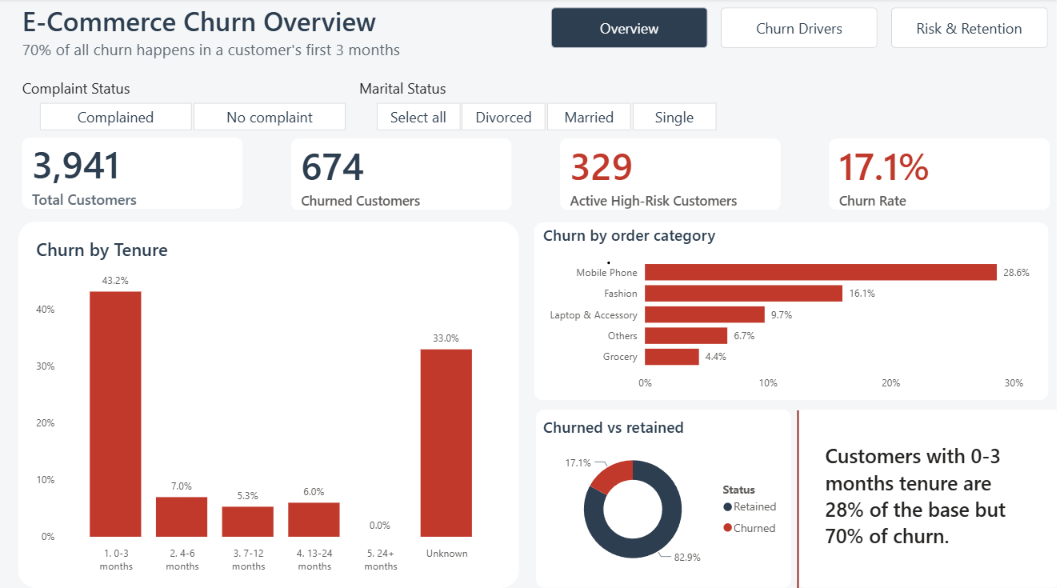

This screenshot's page, from the dashboard's own definition file:
{"tool":"powerbi","page":{"name":"Overview","canvas":[1280,720],"ordinal":0},"visuals":[{"type":"shape","box":[960.2,496,319.6,215.5],"z":0},{"type":"shape","box":[646.4,496,308,215.5],"z":1000},{"type":"shape","box":[644.2,270.6,620.6,214.7],"z":2000},{"type":"shape","box":[21.4,269.5,604.4,442.5],"z":3000},{"type":"textbox","box":[21.7,0,720.1,60.7],"z":4000},{"type":"textbox","box":[21.7,43.4,760.6,34.7],"z":5000},{"type":"cardVisual","fields":{"Data":["_Measures.Total Customers"]},"box":[9.2,150.6,300,120],"z":6000},{"type":"cardVisual","fields":{"Data":["_Measures.Churn Rate"]},"box":[982.8,151.8,300,120],"z":7000},{"type":"cardVisual","fields":{"Data":["_Measures.Active High-Risk Customers"]},"box":[658.3,151.8,300,120],"z":8000},{"type":"clusteredColumnChart","title":"Churn by Tenure","fields":{"Y":["_Measures.Churn Rate"],"Category":["customer_risk.tenure_bucket"]},"box":[38.8,286.9,569.7,413.6],"z":9000},{"type":"donutChart","title":"Churned vs retained","fields":{"Category":["customer_risk.Status"],"Y":["_Measures.Total Customers"]},"box":[650.7,504.7,300.8,199.6],"z":10000},{"type":"clusteredBarChart","title":"Churn by order category","fields":{"Category":["customer_risk.preferred_order_cat"],"Y":["_Measures.Churn Rate"]},"box":[650.4,273.1,609.5,209.8],"z":11000},{"type":"slicer","title":"Marital Status","fields":{"Values":["customer_risk.marital_status"]},"box":[428,96.9,459.8,69.4],"z":12000},{"type":"slicer","title":"Complaint Status","fields":{"Values":["customer_risk.Complaint Status"]},"box":[21.7,96.9,419.3,69.4],"z":13000},{"type":"textbox","box":[990.5,530.7,258.8,147.5],"z":14000},{"type":"pageNavigator","box":[664.7,10.9,599.6,49.5],"z":16000},{"type":"cardVisual","fields":{"Data":["_Measures.Churned Customers"]},"box":[333.8,151.8,300,120],"z":17000},{"type":"shape","box":[813,496.5,299.2,216],"z":18001}]}

Visuals, with their boxes in screenshot pixels (x1, y1, x2, y2), scaled from the page's 1280x720 canvas onto the 1057x588 screenshot:
shape: BBox(793, 405, 1056, 581)
shape: BBox(534, 405, 788, 581)
shape: BBox(532, 221, 1044, 396)
shape: BBox(18, 220, 517, 581)
textbox: BBox(18, 0, 613, 50)
textbox: BBox(18, 35, 646, 64)
cardVisual - _Measures.Total Customers: BBox(8, 123, 255, 221)
cardVisual - _Measures.Churn Rate: BBox(812, 124, 1056, 222)
cardVisual - _Measures.Active High-Risk Customers: BBox(544, 124, 791, 222)
"Churn by Tenure" clusteredColumnChart: BBox(32, 234, 502, 572)
"Churned vs retained" donutChart: BBox(537, 412, 786, 575)
"Churn by order category" clusteredBarChart: BBox(537, 223, 1040, 394)
"Marital Status" slicer: BBox(353, 79, 733, 136)
"Complaint Status" slicer: BBox(18, 79, 364, 136)
textbox: BBox(818, 433, 1032, 554)
pageNavigator: BBox(549, 9, 1044, 49)
cardVisual - _Measures.Churned Customers: BBox(276, 124, 523, 222)
shape: BBox(671, 405, 918, 582)
